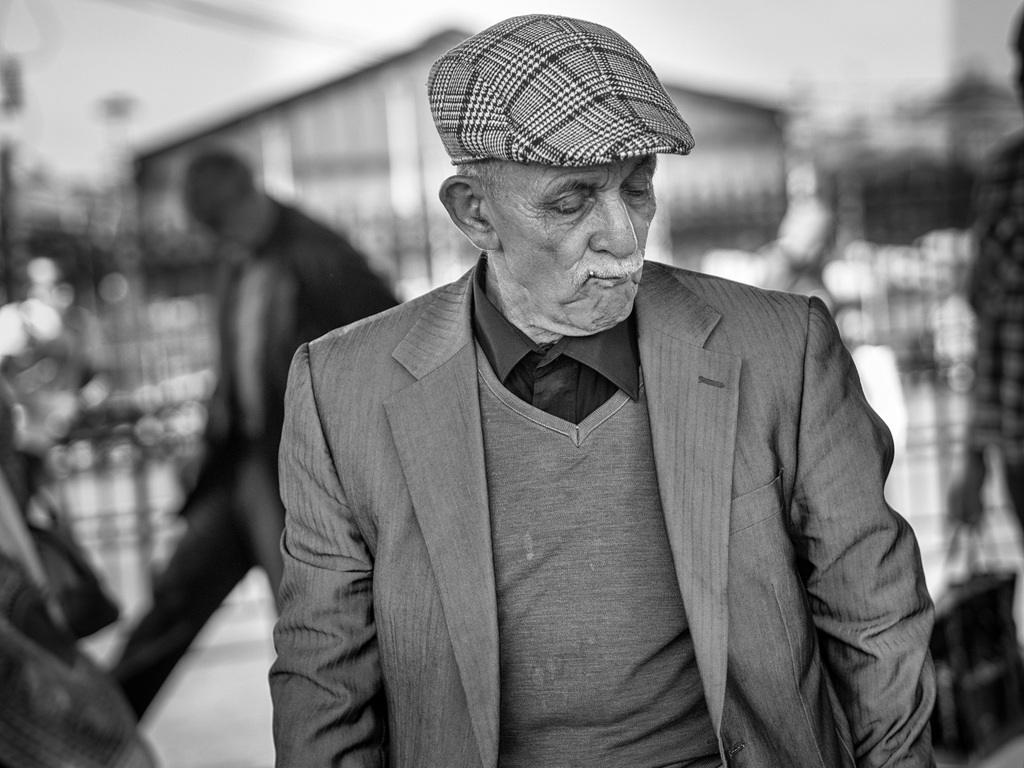Human-face: (481, 157, 656, 332)
